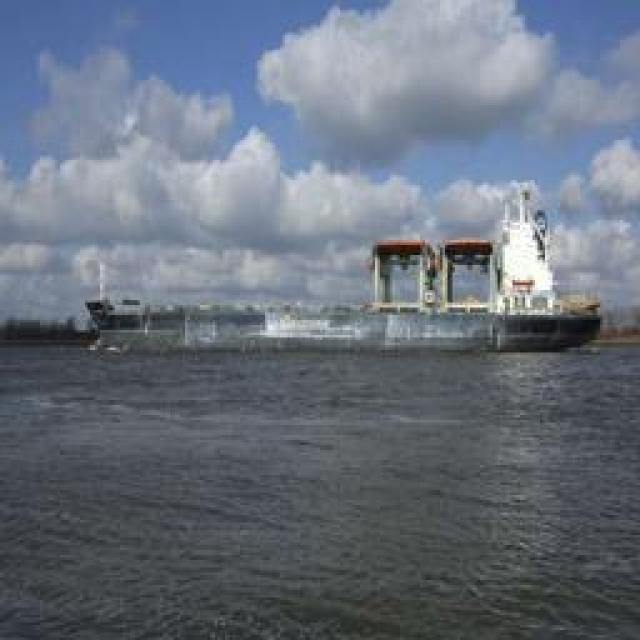ship2: (83, 180, 604, 352)
